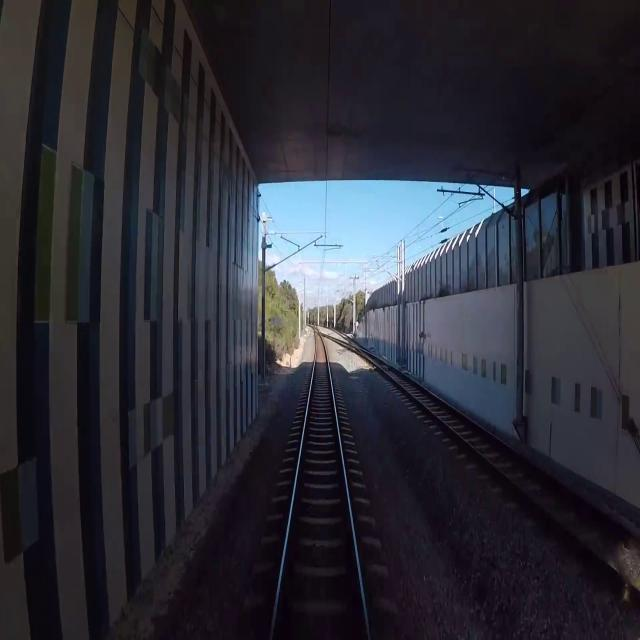rail-track: (378, 362, 640, 585), (273, 335, 366, 639), (317, 326, 335, 335)
